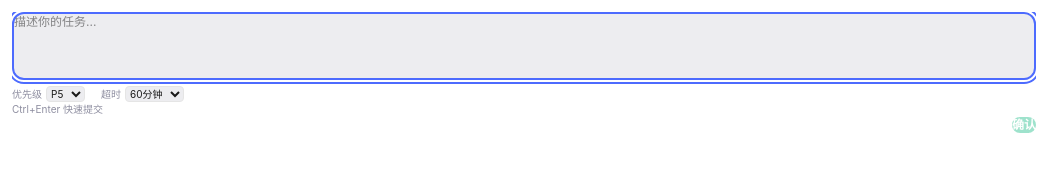
Test: TaskCreateForm › should enable submit when text is entered
Type "New task" into the text box with placeholder "描述你的任务..." at (524, 46), box top-left (12, 12), bottom-right (1036, 80)
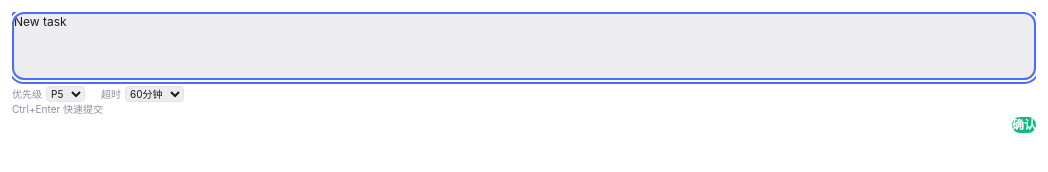
Now the button "确认" is enabled, box top-left (1012, 117), bottom-right (1036, 133)
